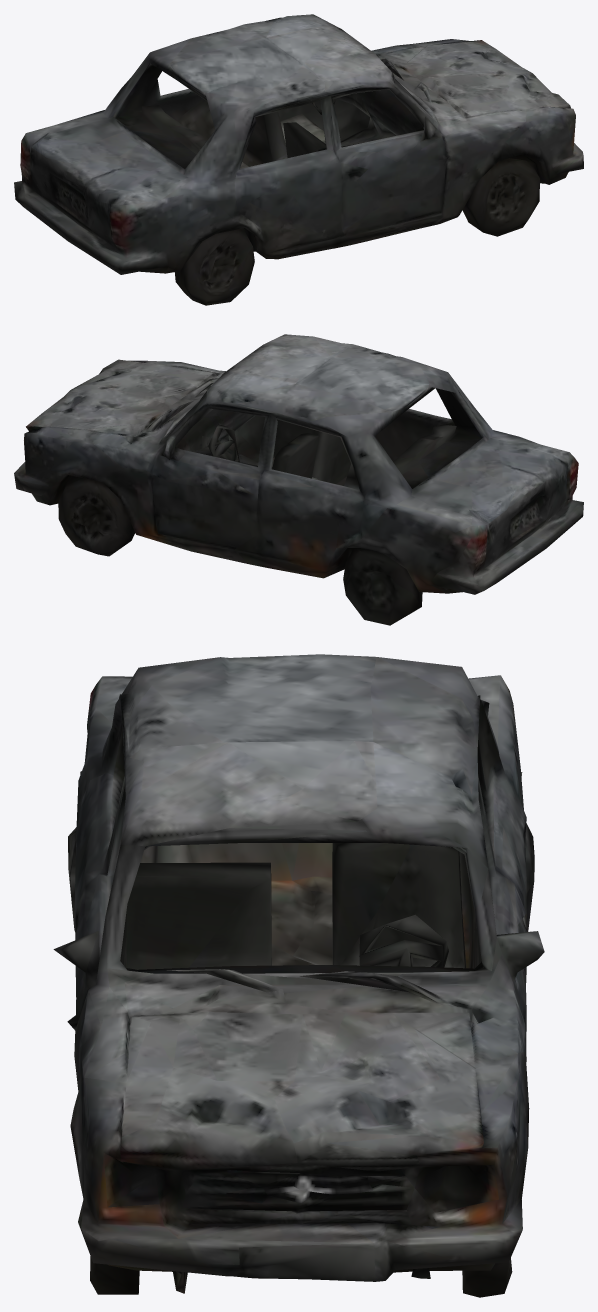
Rendered from e_vaz_burned.glb.
The picture shows the model from 3 angles, top to bottom: view 1: azimuth 30°, elevation 25°; view 2: azimuth 150°, elevation 25°; view 3: azimuth 270°, elevation 25°; orthographic projection. The views are drawn at different scales.
Visible parts, largest first — view 1: tripo_node_52a62e6c-01c4-4bba-93a6-c01ad8689360; view 2: tripo_node_52a62e6c-01c4-4bba-93a6-c01ad8689360; view 3: tripo_node_52a62e6c-01c4-4bba-93a6-c01ad8689360.
Boxes of the visible parts, left/top/right/bottom form: tripo_node_52a62e6c-01c4-4bba-93a6-c01ad8689360: left=14, top=14, right=583, bottom=305; tripo_node_52a62e6c-01c4-4bba-93a6-c01ad8689360: left=14, top=334, right=583, bottom=625; tripo_node_52a62e6c-01c4-4bba-93a6-c01ad8689360: left=53, top=654, right=544, bottom=1297.
Bounding box in the file's own units: 1 × 0.3746 × 0.4394.
1 material, 1 textured.
